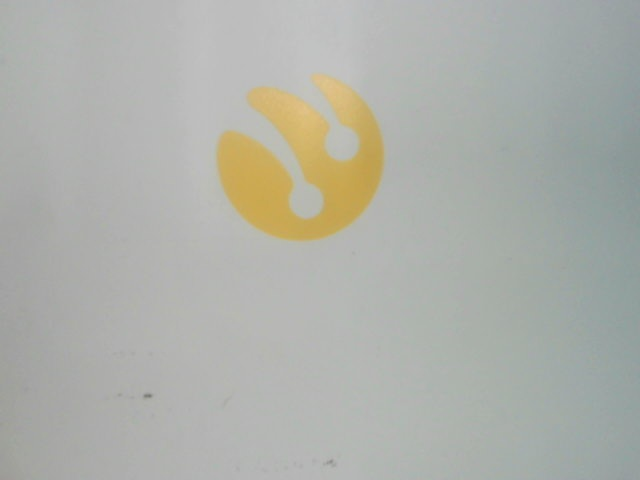AV_H3600Yellow: (198, 54, 416, 253)
